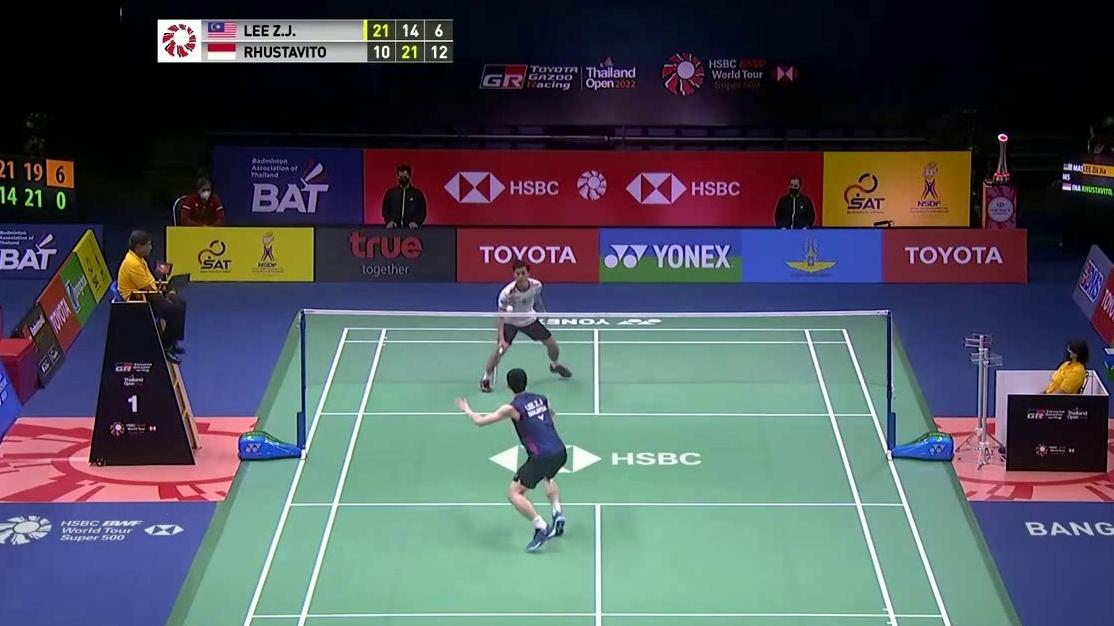racket: (490, 346, 506, 385)
shuttle: (505, 304, 515, 314)
